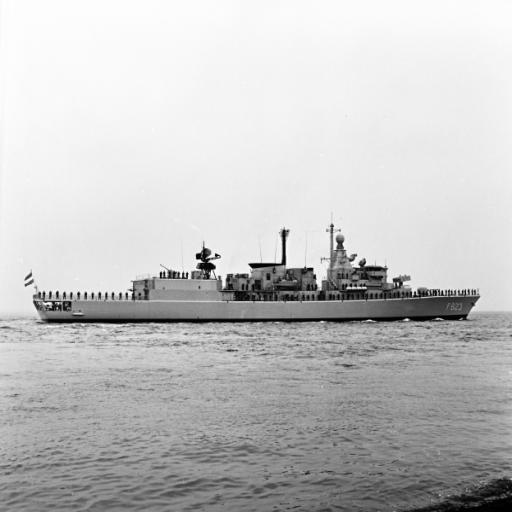Fragata: (22, 206, 485, 329)
